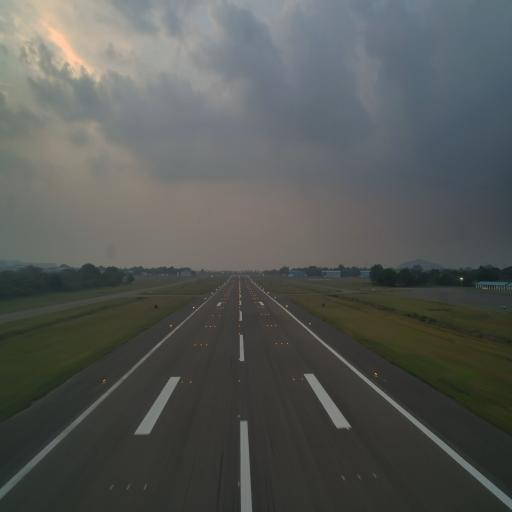on: (141, 482, 148, 495), (357, 471, 363, 484), (110, 480, 116, 492), (126, 482, 132, 494), (371, 470, 377, 480), (340, 474, 346, 482), (237, 480, 242, 488), (238, 376, 242, 384), (308, 374, 312, 382), (374, 371, 378, 378), (172, 379, 176, 386), (237, 413, 241, 419), (180, 379, 184, 385), (292, 376, 296, 381), (301, 376, 304, 382), (102, 379, 106, 383), (238, 356, 241, 361), (190, 379, 192, 384)
